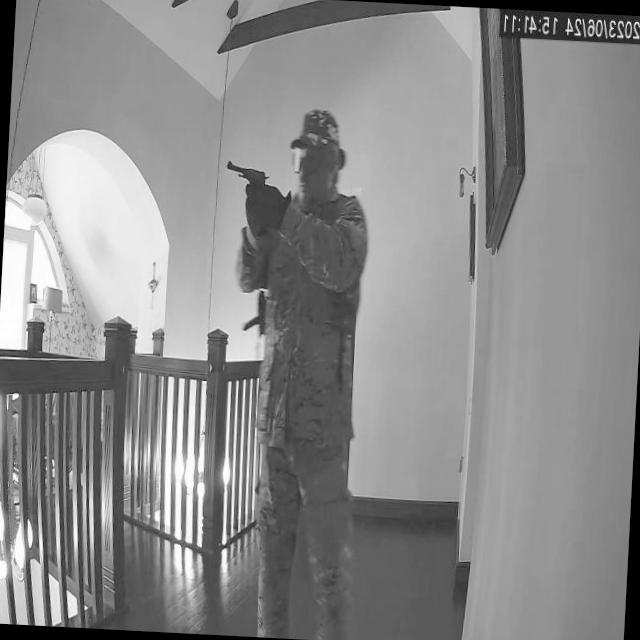gun: (221, 158, 269, 208)
person with a gun: (195, 101, 375, 640)
